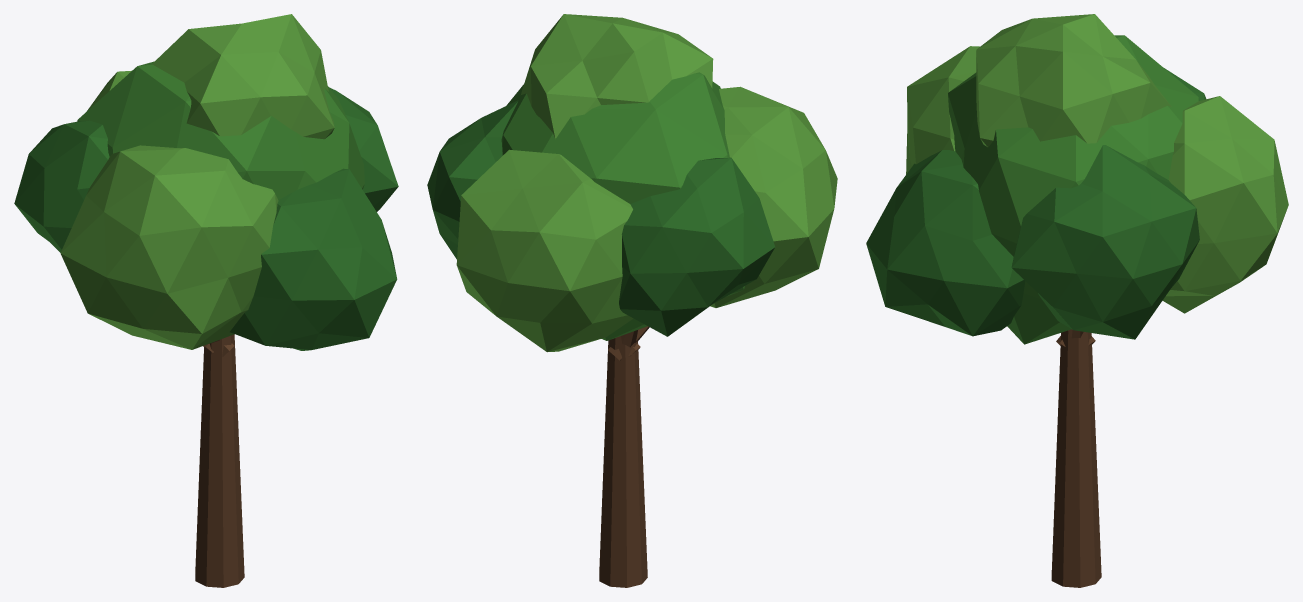
The model's file is Tree_Oak_A.fbx.
3 renders of one model, left to right at view 1: azimuth 30°, elevation 25°; view 2: azimuth 150°, elevation 25°; view 3: azimuth 270°, elevation 25°, orthographic. The views are drawn at different scales.
Visible parts, largest first — view 1: Tree_Oak_A; view 2: Tree_Oak_A; view 3: Tree_Oak_A.
Part boxes in pixels (bbox=[...]): Tree_Oak_A: bbox=[14, 14, 398, 587]; Tree_Oak_A: bbox=[427, 14, 837, 587]; Tree_Oak_A: bbox=[866, 14, 1288, 587].
Bounding box in the file's own units: 3.12 × 4.8 × 3.28.
